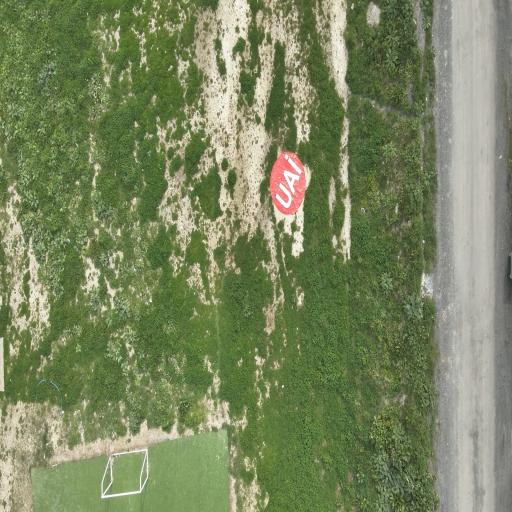UAI: (270, 151, 304, 214)
